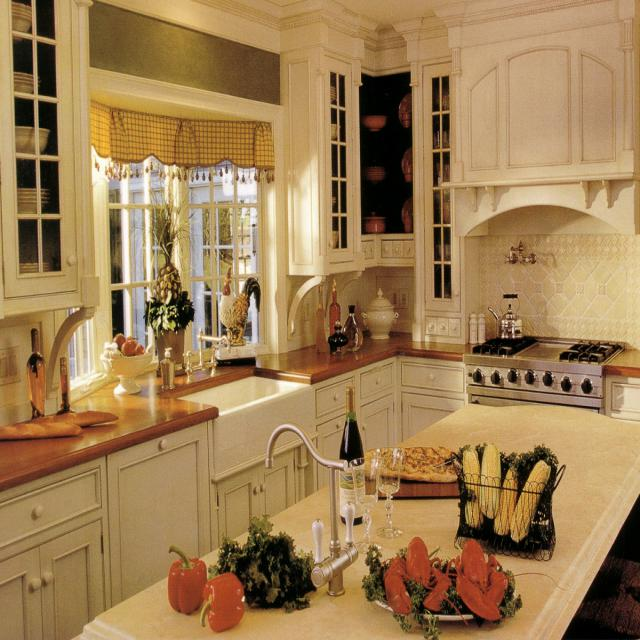2001: (69, 148, 268, 407)
2017: (349, 465, 380, 553), (373, 451, 402, 538)
baguette: (30, 408, 118, 426), (2, 420, 84, 439)
basket of onions: (455, 442, 567, 565)
bottle crop: (28, 329, 48, 421), (316, 283, 329, 351), (343, 304, 362, 349), (58, 356, 72, 412), (329, 279, 342, 331), (327, 321, 346, 354)
bowl -X: (18, 127, 53, 166), (365, 114, 389, 137), (363, 166, 389, 187), (366, 215, 388, 238), (329, 122, 341, 139)
bowl -x: (331, 229, 338, 249)
bowl of garlic: (102, 330, 155, 397)
bowls: (14, 188, 53, 224), (14, 4, 39, 48), (15, 70, 43, 101), (22, 260, 49, 277)
cabinet door: (282, 6, 481, 343), (218, 452, 300, 544)
cabinets: (2, 424, 215, 640), (319, 359, 466, 491)
counter: (1, 331, 476, 491), (606, 346, 639, 378)
cupboard crop: (2, 2, 102, 324)
curtain crop: (93, 99, 277, 186)
cutting board with vegetables: (365, 478, 459, 498)
dish: (364, 536, 519, 624)
drawer handle: (605, 375, 640, 424)
electrical outlet: (303, 299, 311, 318)
faucet handle: (265, 421, 358, 597), (183, 326, 231, 385), (503, 242, 538, 267)
island counter: (76, 400, 640, 640)
jar -X: (400, 92, 409, 129), (402, 144, 411, 181), (403, 198, 411, 231)
kettle: (488, 294, 527, 342)
lettuce: (213, 516, 315, 609)
light switch: (399, 287, 409, 308), (389, 288, 398, 308)
liquid soap: (160, 348, 178, 390)
pineapple: (145, 199, 197, 374)
pizza: (363, 446, 462, 480)
red pepper: (167, 544, 205, 614), (202, 572, 243, 630)
red wine bottle: (339, 385, 364, 523)
rooster: (218, 267, 263, 350)
salt and pepper: (468, 312, 486, 343)
sink basin: (178, 374, 317, 484)
stack of dishes: (331, 85, 337, 104)
stove burner: (463, 334, 628, 412)
stove occluded: (435, 0, 639, 235)
urn: (362, 292, 400, 343)
wall clock: (92, 1, 413, 353), (483, 210, 639, 348)
